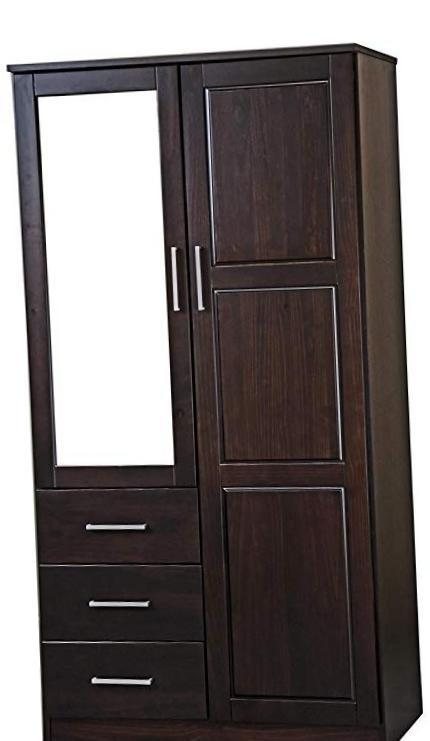cabinet_door: (194, 54, 377, 731), (22, 64, 190, 487), (43, 640, 203, 726), (41, 569, 203, 646), (39, 488, 199, 564)
handle: (89, 668, 156, 694), (84, 594, 154, 618), (83, 515, 153, 539), (192, 240, 208, 317), (168, 241, 183, 317)
